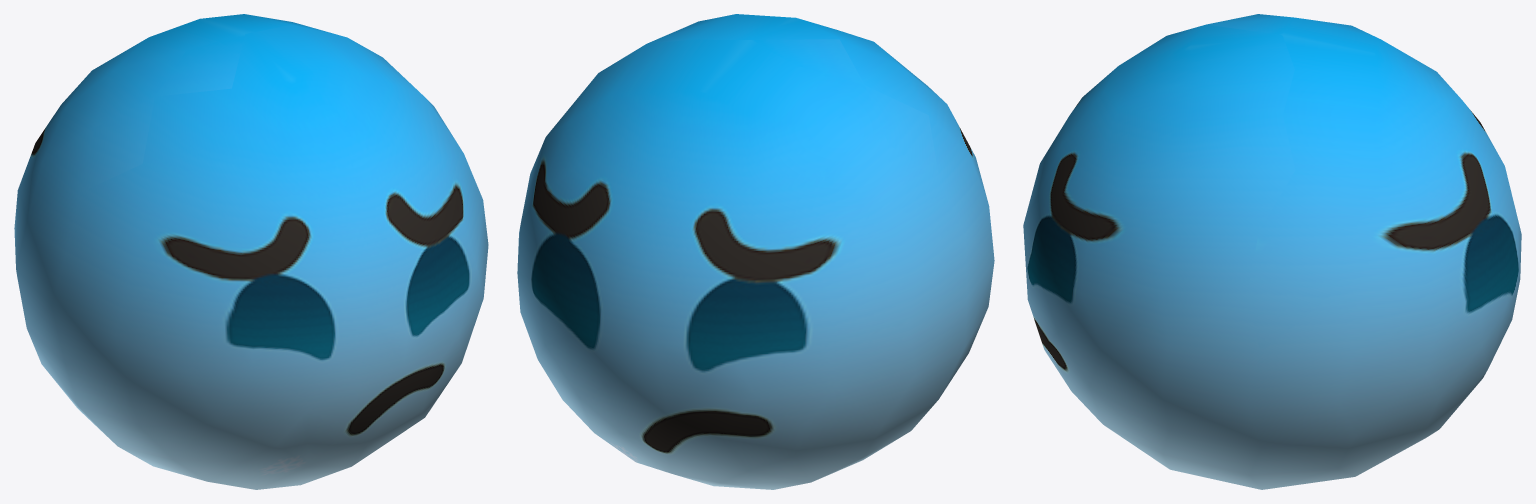
Rendered from blue_sademoji.glb.
3 renders of one model, left to right at view 1: azimuth 30°, elevation 25°; view 2: azimuth 150°, elevation 25°; view 3: azimuth 270°, elevation 25°, orthographic.
Parts seen in each view (by area): view 1: Blue_SadEmoji; view 2: Blue_SadEmoji; view 3: Blue_SadEmoji.
Part boxes in pixels (x1,y1,x2,y2): Blue_SadEmoji: (14,14,488,489); Blue_SadEmoji: (517,14,994,489); Blue_SadEmoji: (1023,14,1521,489).
Bounding box in the file's own units: 0.4931 × 0.4933 × 0.5143.
1 material, 1 textured.
